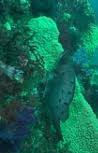smallfish: (41, 60, 78, 125)
